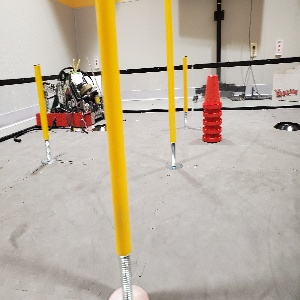Red_5: (203, 75, 221, 145)
